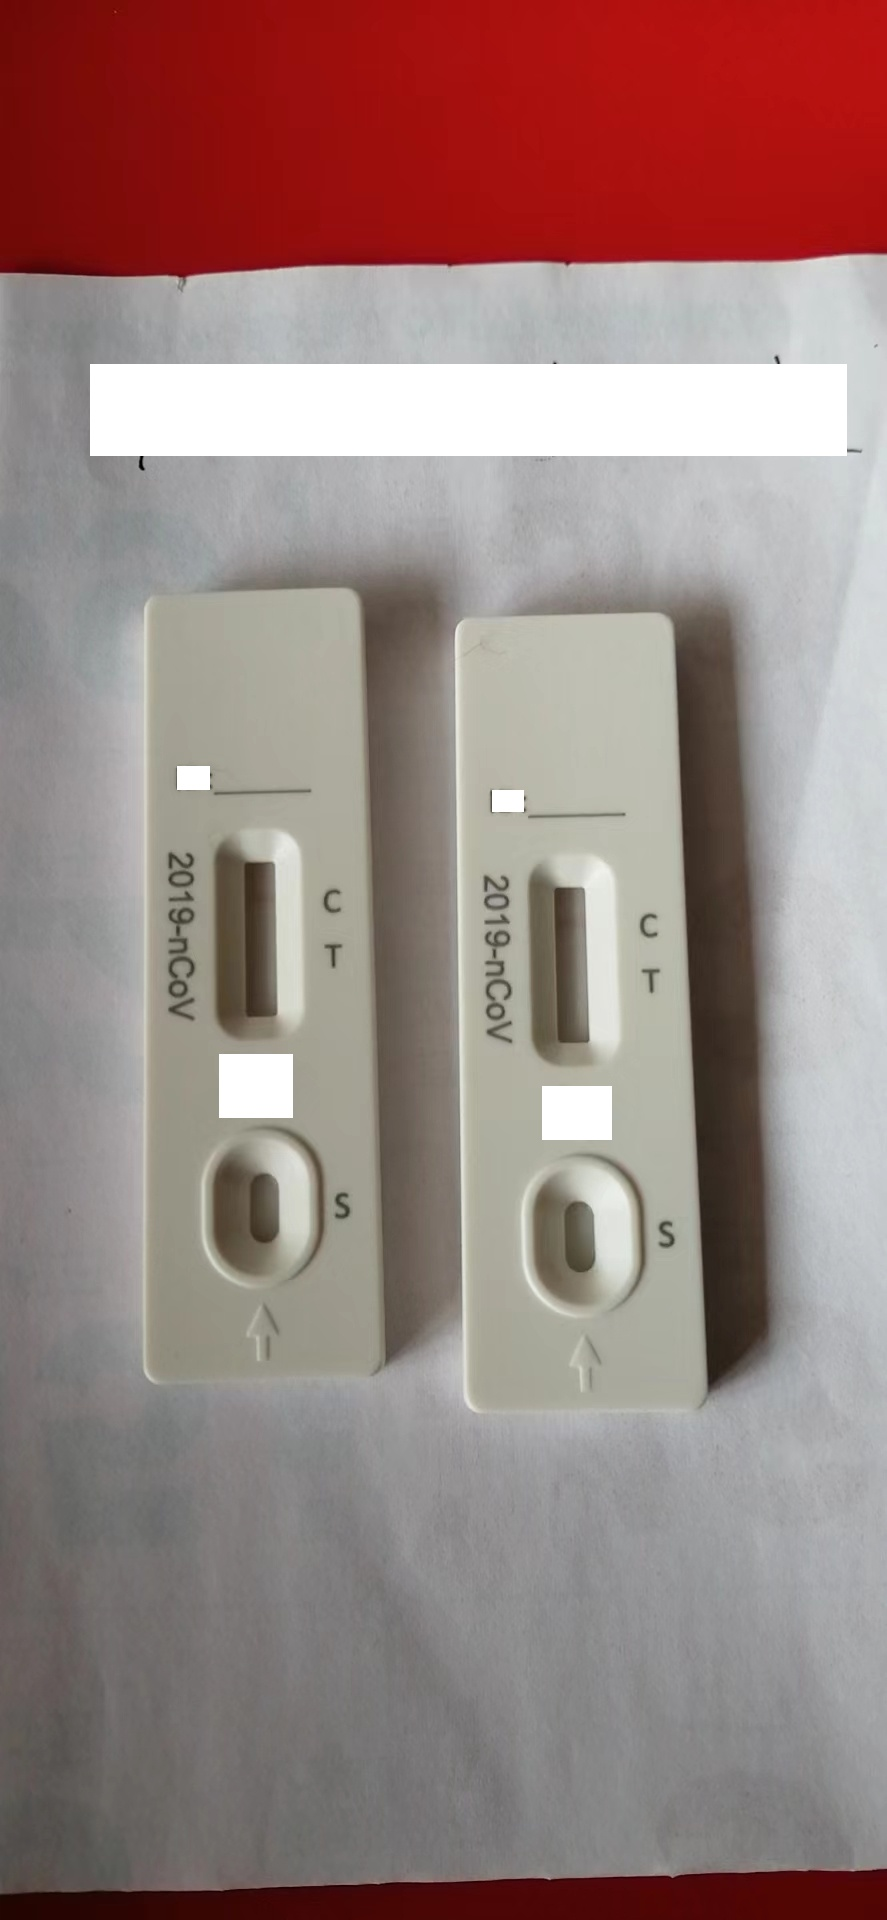negative: (213, 827, 301, 1044), (530, 853, 617, 1067)
